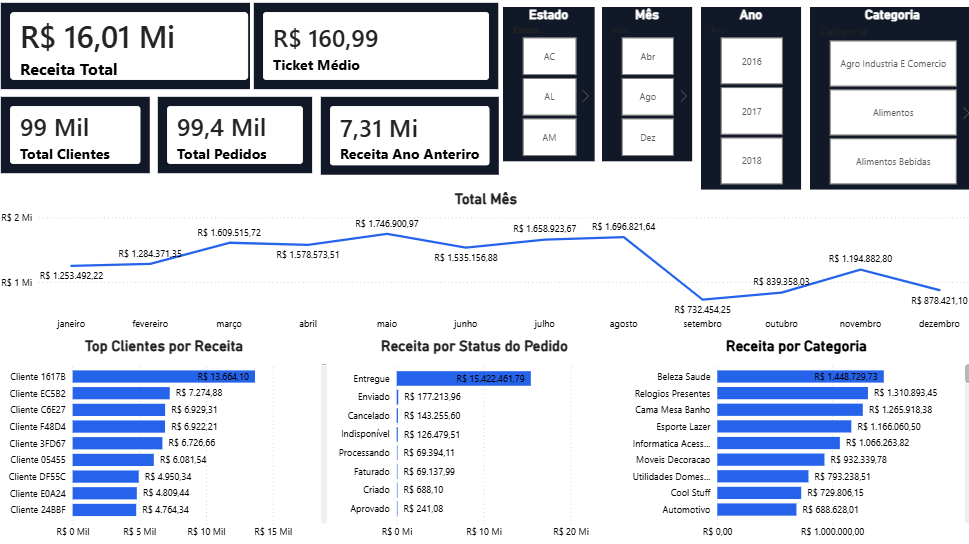

The page's visual inventory and layout, read from the dashboard file:
{"tool":"powerbi","page":{"name":"Página 1","canvas":[1280,720],"ordinal":0},"visuals":[{"type":"cardVisual","fields":{"Data":["Tabela.Receita Total"]},"box":[0,3.6,346.8,123.4],"z":0},{"type":"cardVisual","fields":{"Data":["Tabela.Ticket Médio"]},"box":[330.7,3.6,330.7,123.4],"z":1000},{"type":"cardVisual","fields":{"Data":["Tabela.Total Pedidos"]},"box":[205.6,126.9,212.7,110.8],"z":2000},{"type":"cardVisual","fields":{"Data":["Tabela.Total Clientes"]},"box":[0,126.9,205.6,110.8],"z":3000},{"type":"lineChart","title":"Total Mês","fields":{"Y":["Tabela.Receita Total"],"Category":["Calendário.Date.Variation.Hierarquia de datas.Mês"]},"box":[0,253.9,1280,193.1],"z":4000},{"type":"slicer","title":"Categoria","fields":{"Values":["categorias.product_category_name"]},"box":[1064.2,14.4,216,239],"z":5000},{"type":"slicer","title":"Ano","fields":{"Values":["Calendário.ANO"]},"box":[921.6,14.4,131,239],"z":6000},{"type":"slicer","title":"Estado","fields":{"Values":["clientes.customer_state"]},"box":[662.4,14.4,119.5,201.6],"z":7000},{"type":"cardVisual","fields":{"Data":["Tabela.Receita Ano Anteriro"]},"box":[418.3,126.9,243.1,112.6],"z":8000},{"type":"slicer","title":"Mês","fields":{"Values":["Calendário.Mês"]},"box":[792,14.4,118.1,201.6],"z":10000},{"type":"barChart","title":"Top Clientes por Receita","fields":{"Category":["clientes.Nome Cliente"],"Y":["Tabela.Receita Total"]},"box":[0,446.4,437.2,273.6],"z":11000},{"type":"barChart","title":"Receita por Status do Pedido","fields":{"Category":["Pedidos.Status PT"],"Y":["Tabela.Receita Total"]},"box":[437.2,446.4,375.7,273.6],"z":12000},{"type":"barChart","title":"Receita por Categoria","fields":{"Category":["Categorias.Categoria"],"Y":["Medidas.Receita Total"]},"box":[813,447,467,273],"z":12001}]}

Visuals, with their boxes in screenshot pixels (x1, y1, x2, y2), scaled from the page's 1280x720 canvas onto the 969x544 screenshot:
cardVisual - Tabela.Receita Total: pyautogui.locateOnScreen(0, 3, 263, 96)
cardVisual - Tabela.Ticket Médio: pyautogui.locateOnScreen(250, 3, 501, 96)
cardVisual - Tabela.Total Pedidos: pyautogui.locateOnScreen(156, 96, 317, 180)
cardVisual - Tabela.Total Clientes: pyautogui.locateOnScreen(0, 96, 156, 180)
"Total Mês" lineChart: pyautogui.locateOnScreen(0, 192, 968, 338)
"Categoria" slicer: pyautogui.locateOnScreen(806, 11, 968, 191)
"Ano" slicer: pyautogui.locateOnScreen(698, 11, 797, 191)
"Estado" slicer: pyautogui.locateOnScreen(501, 11, 592, 163)
cardVisual - Tabela.Receita Ano Anteriro: pyautogui.locateOnScreen(317, 96, 501, 181)
"Mês" slicer: pyautogui.locateOnScreen(600, 11, 689, 163)
"Top Clientes por Receita" barChart: pyautogui.locateOnScreen(0, 337, 331, 543)
"Receita por Status do Pedido" barChart: pyautogui.locateOnScreen(331, 337, 615, 543)
"Receita por Categoria" barChart: pyautogui.locateOnScreen(615, 338, 968, 543)
